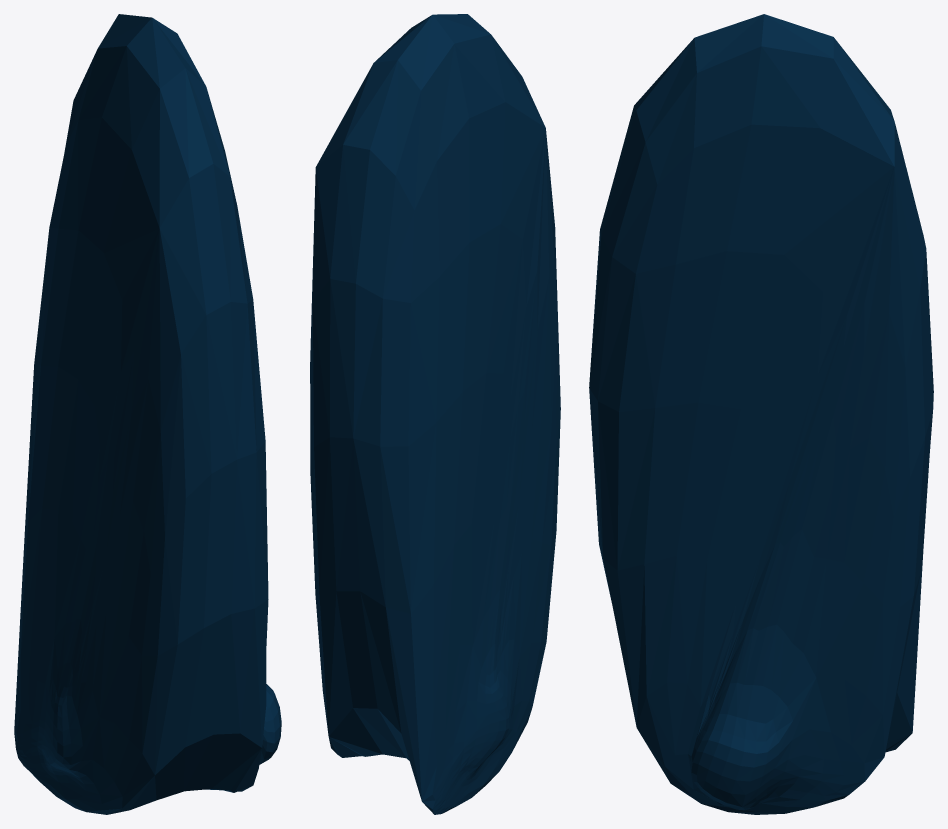
The picture shows the model from 3 angles, left to right: view 1: azimuth 30°, elevation 25°; view 2: azimuth 150°, elevation 25°; view 3: azimuth 270°, elevation 25°; orthographic projection. The views are drawn at different scales.
Visible parts, largest first — view 1: 643_Cube.2587; view 2: 643_Cube.2587; view 3: 643_Cube.2587.
Part boxes in pixels (<box>): 643_Cube.2587: <box>14,14,281,814</box>; 643_Cube.2587: <box>310,14,560,814</box>; 643_Cube.2587: <box>589,14,933,814</box>.
Size of the model in its own units: 2.86 by 10.98 by 4.4.
